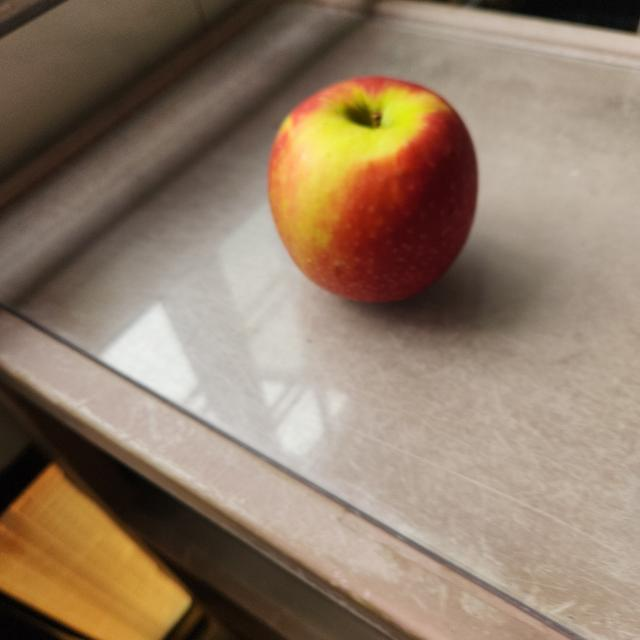apple: (259, 70, 490, 312)
